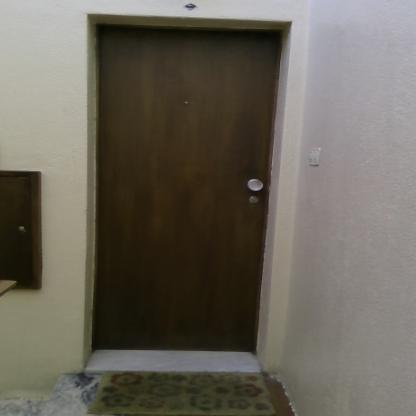door: (94, 26, 272, 362)
knob: (249, 177, 263, 194)
